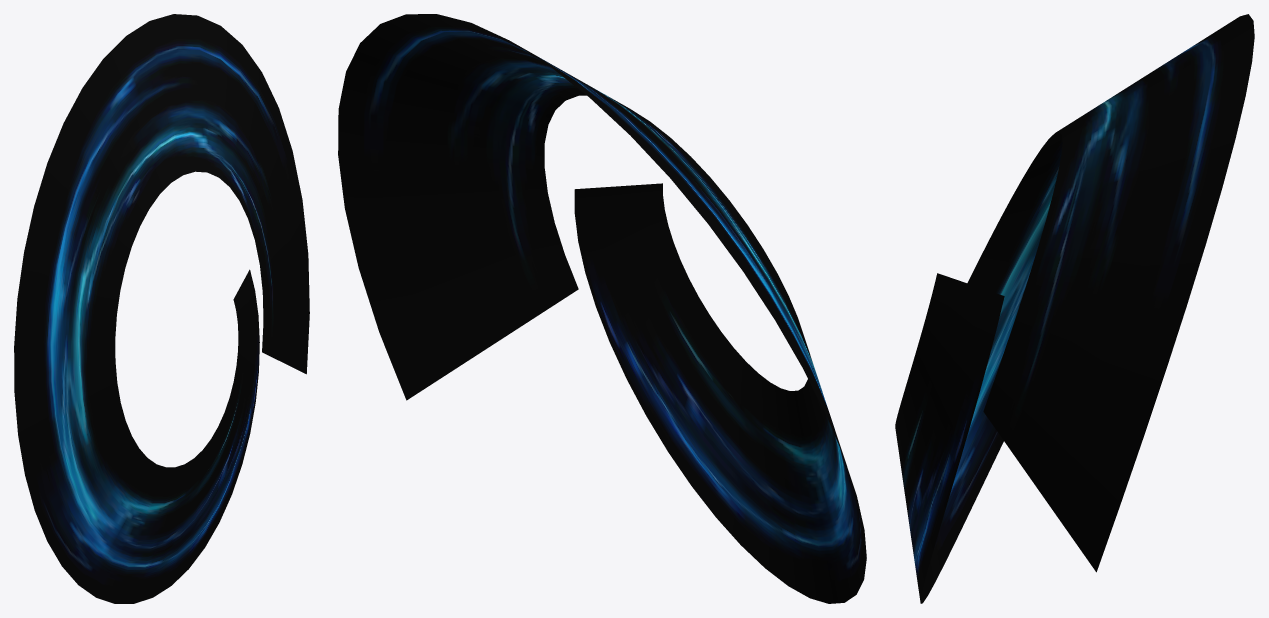
The picture shows the model from 3 angles, left to right: view 1: azimuth 30°, elevation 25°; view 2: azimuth 150°, elevation 25°; view 3: azimuth 270°, elevation 25°; orthographic projection. The views are drawn at different scales.
Parts seen in each view (by area): view 1: Helix01; view 2: Helix01; view 3: Helix01.
Boxes of the visible parts, x1,y1,x2,y2 form: Helix01: (14, 14, 309, 603); Helix01: (338, 14, 866, 603); Helix01: (895, 14, 1254, 603).
Size of the model in its own units: 7.89 by 10.91 by 5.33.
1 material, 1 textured.
